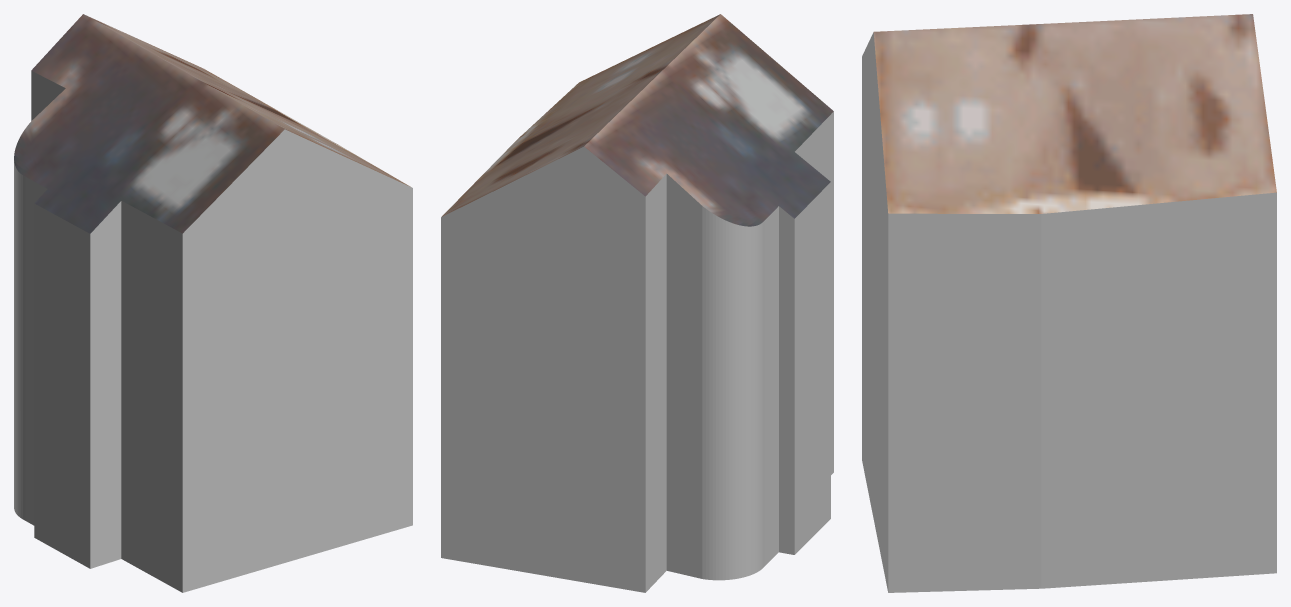
The model's file is DEBW_0010007Tx7r.gltf.
3 renders of one model, left to right at view 1: azimuth 30°, elevation 25°; view 2: azimuth 150°, elevation 25°; view 3: azimuth 270°, elevation 25°, orthographic. The views are drawn at different scales.
Visible parts, largest first — view 1: Z_UP; view 2: Z_UP; view 3: Z_UP.
Part boxes in pixels (<box>): Z_UP: <box>14,14,412,592</box>; Z_UP: <box>441,14,833,592</box>; Z_UP: <box>862,14,1276,592</box>.
Bounding box in the file's own units: 13.07 × 18.26 × 14.09.
2 materials, 1 textured.
